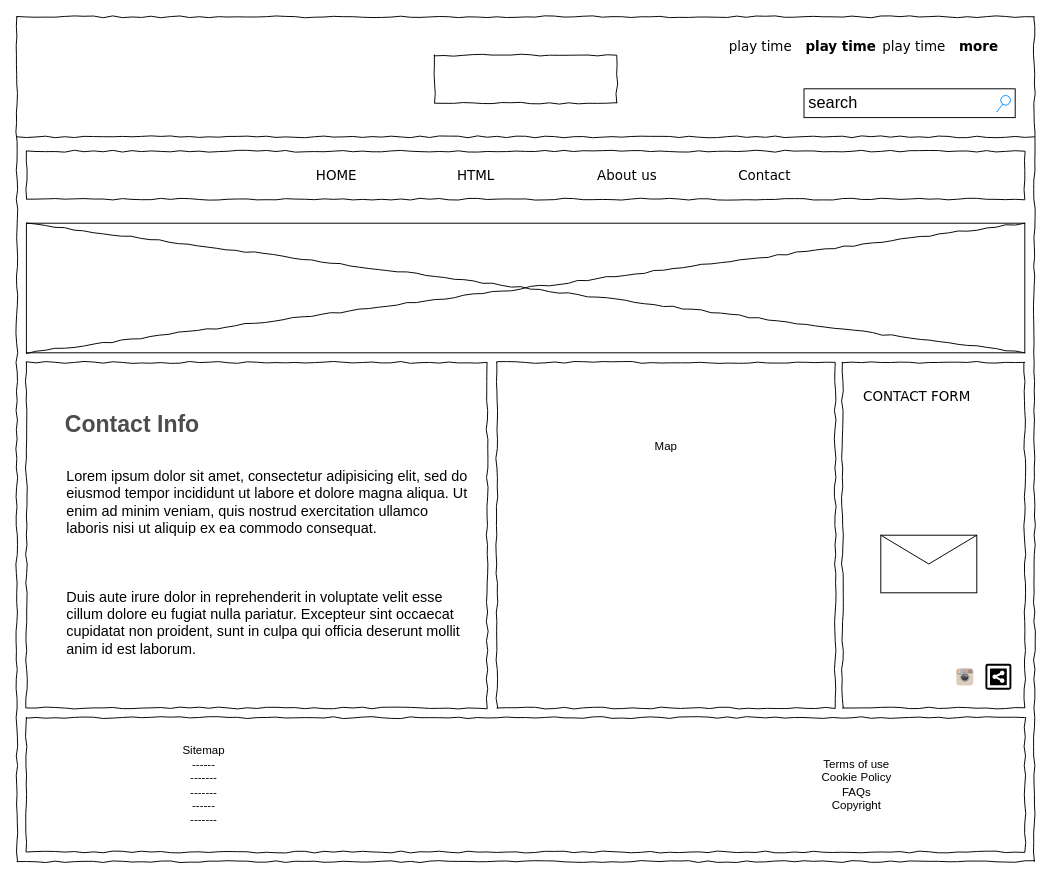
Image size: 1051x878. Some labels were removed from this diagram. Here are the shapes that lost their labels. From the top down, the box of each, then its label:
(433, 54, 617, 103): LOGO
(25, 717, 1025, 852): footer info
